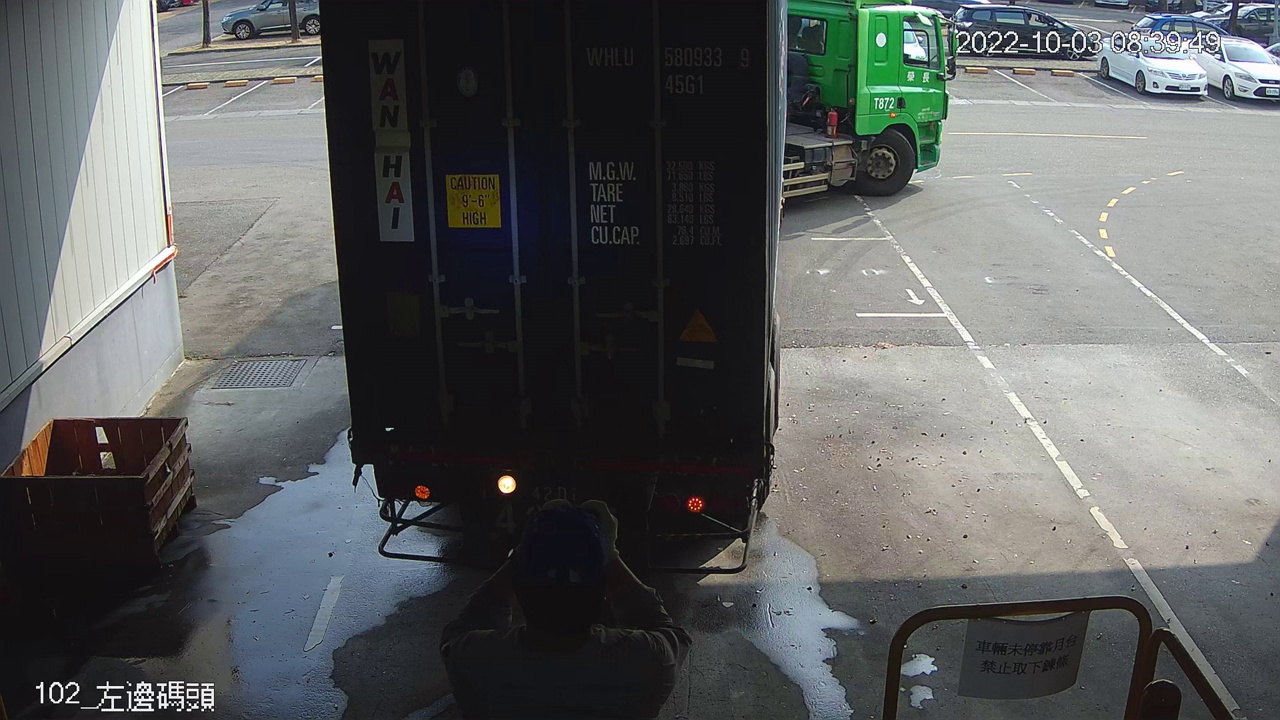container: (581, 37, 758, 104)
